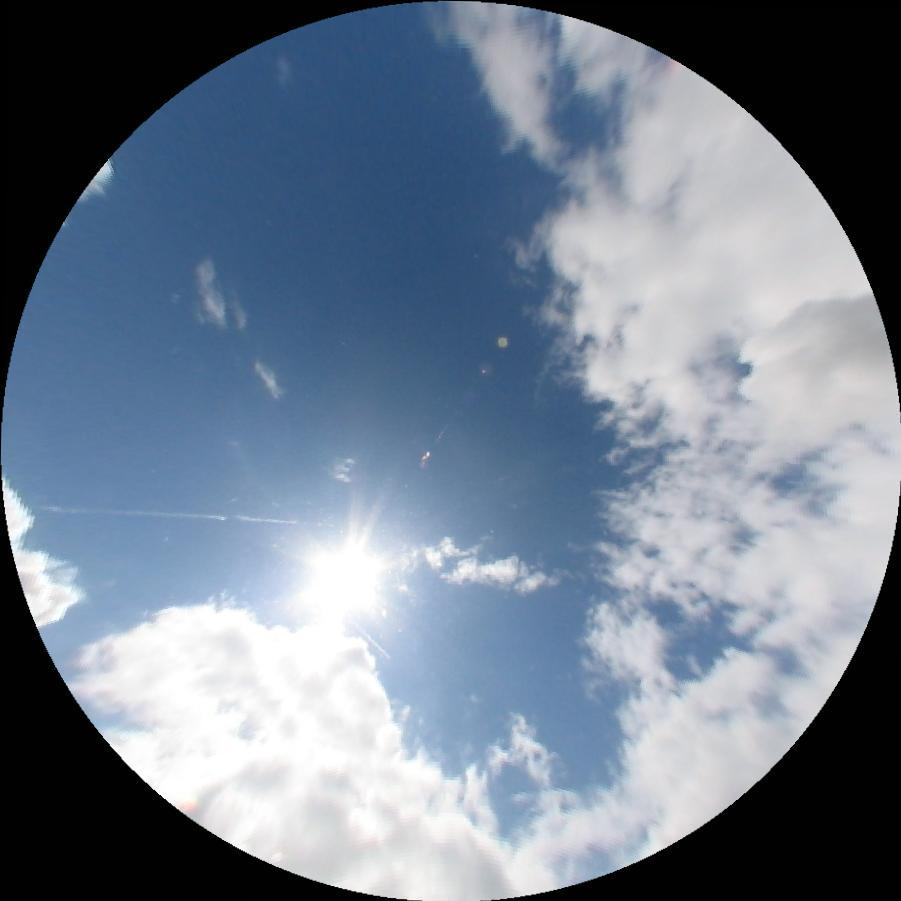contrail young: (355, 623, 390, 659), (222, 493, 239, 505)
parasite: (42, 504, 297, 523)
sun: (297, 532, 390, 626)
